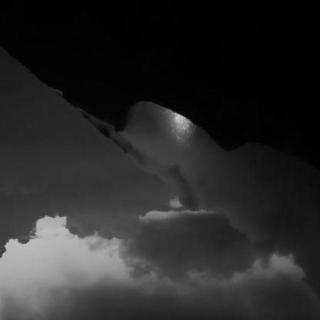Smoke: (64, 281, 314, 315)
